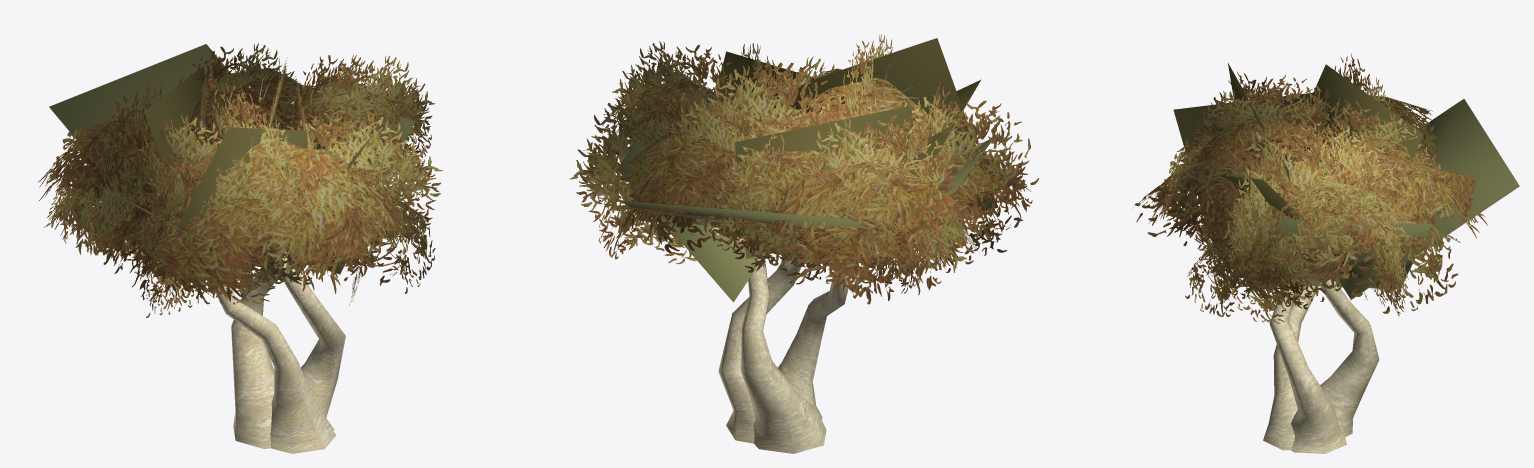
The model's file is decd_windswept_l0.fbx.
3 renders of one model, left to right at view 1: azimuth 30°, elevation 25°; view 2: azimuth 150°, elevation 25°; view 3: azimuth 270°, elevation 25°, orthographic. The views are drawn at different scales.
Visible parts, largest first — view 1: mesh_node; view 2: mesh_node; view 3: mesh_node.
Boxes of the visible parts, box(x1,y1,x2,y2) form: mesh_node: box(38, 43, 442, 453); mesh_node: box(570, 34, 1039, 453); mesh_node: box(1131, 53, 1519, 453).
Bounding box in the file's own units: 5.78 × 5.26 × 5.42.
